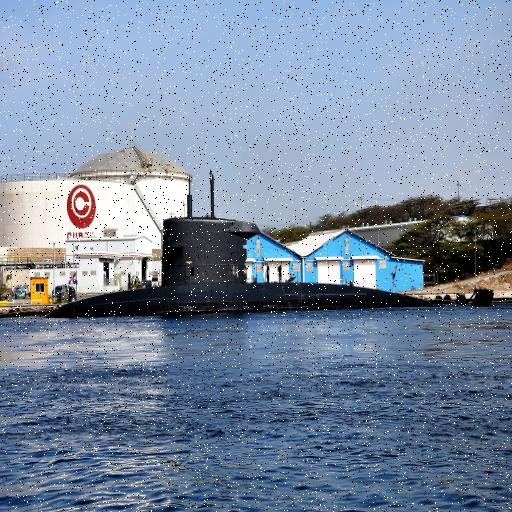submarine: (49, 174, 494, 318)
